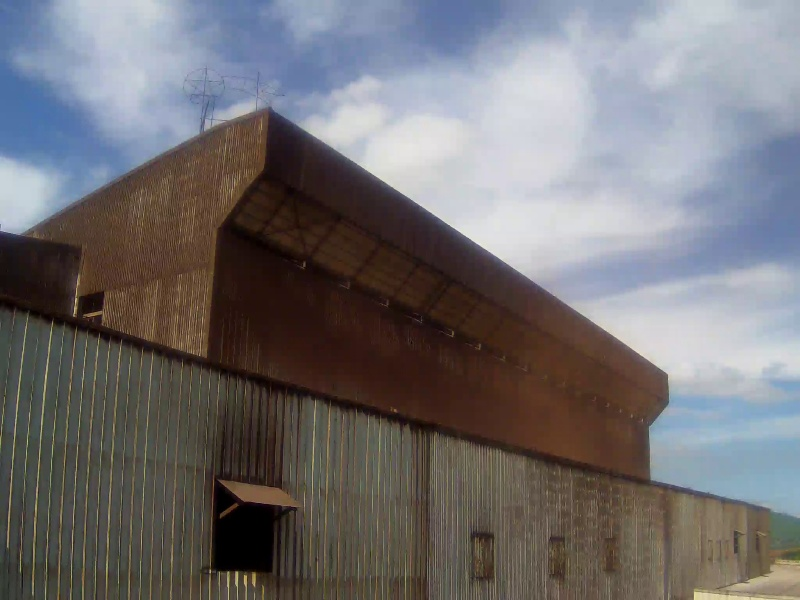bom: (17, 15, 279, 209)
ruim: (491, 233, 679, 484)
